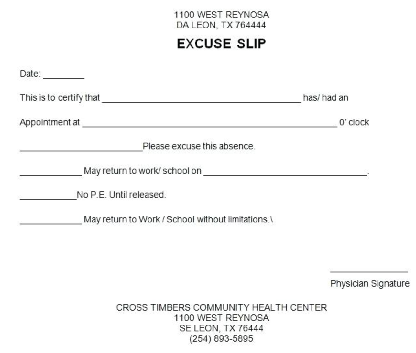textline: (80, 111, 340, 129), (202, 157, 369, 181), (99, 87, 303, 104), (19, 137, 144, 154), (327, 253, 412, 276), (18, 213, 84, 230), (19, 162, 84, 178), (18, 188, 79, 203), (41, 66, 87, 80)
